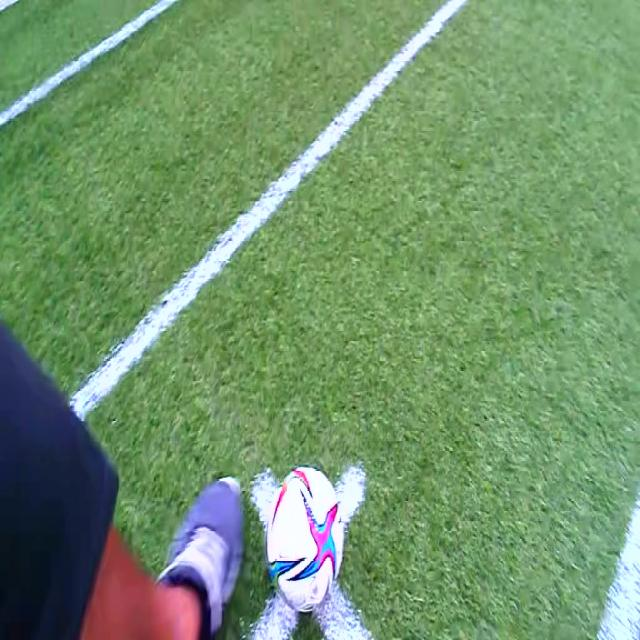ball: (266, 466, 342, 613)
